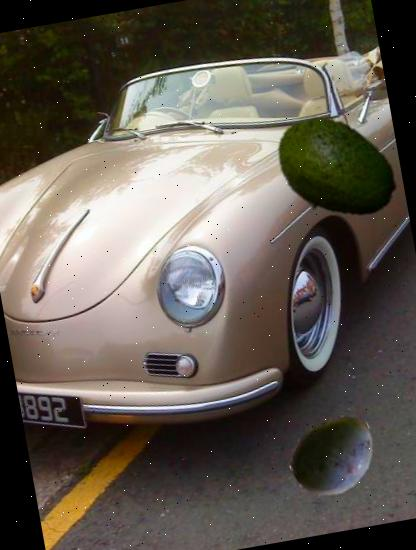Avocado: (260, 95, 408, 245)
Plum: (284, 404, 387, 508)
